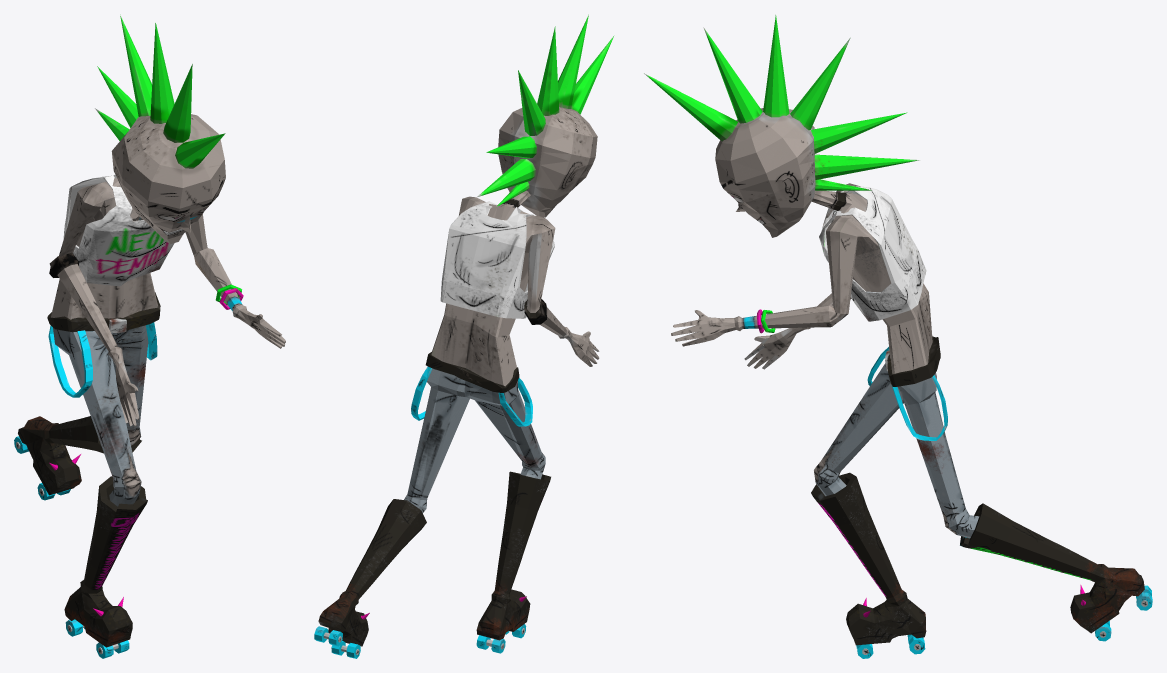
File: punkAnimation_000014.obj
The picture shows the model from 3 angles, left to right: view 1: azimuth 30°, elevation 25°; view 2: azimuth 150°, elevation 25°; view 3: azimuth 270°, elevation 25°; orthographic projection. The views are drawn at different scales.
Parts seen in each view (by area): view 1: Cube.004_Cube.003; view 2: Cube.004_Cube.003; view 3: Cube.004_Cube.003.
Part boxes in pixels (x1,y1,x2,y2): Cube.004_Cube.003: (14,14,285,658); Cube.004_Cube.003: (314,14,614,658); Cube.004_Cube.003: (644,15,1152,658).
Size of the model in its own units: 1.46 by 6.78 by 4.9.
